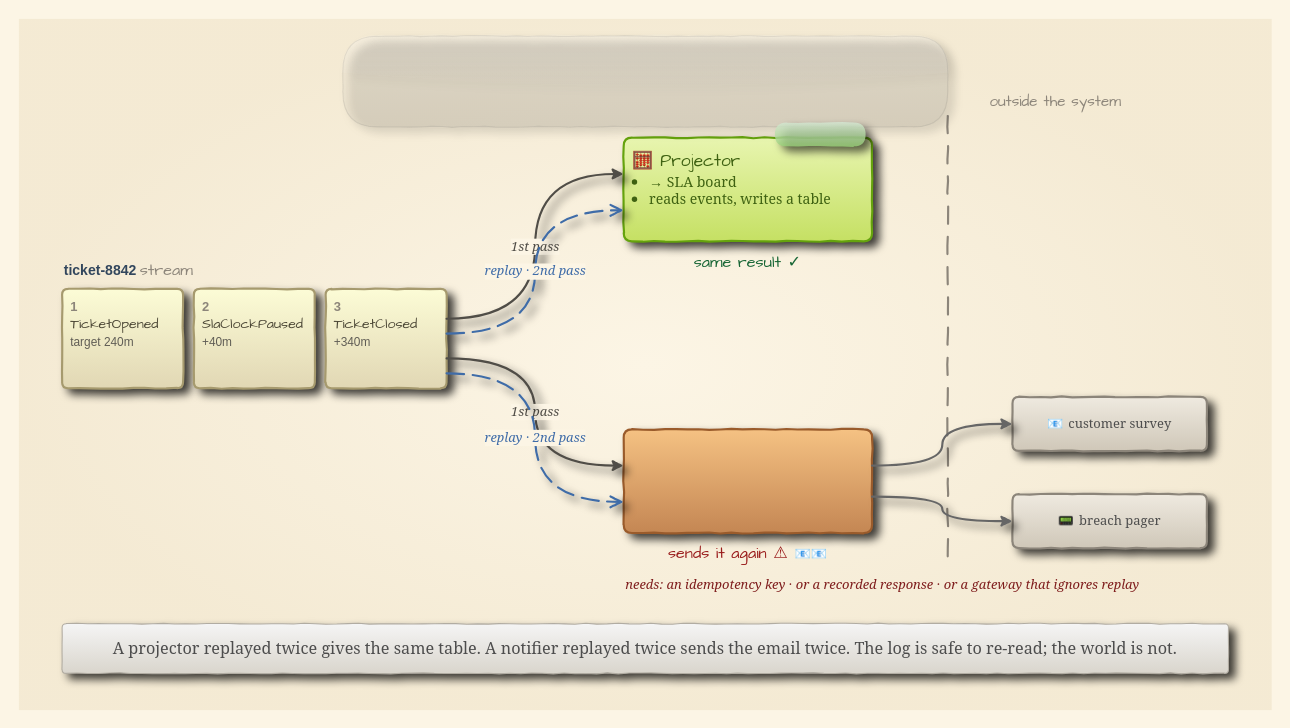
This 1290x728 diagram has some shape labels left out. The centre of each missing label's shape, as x and y in pixels:
"rebuildable" goes at point 823,136.
"Replay re-reads the log it does not re-run the world" goes at point 648,83.
"📣 Notifier reads events, talks to people" goes at point 750,483.
